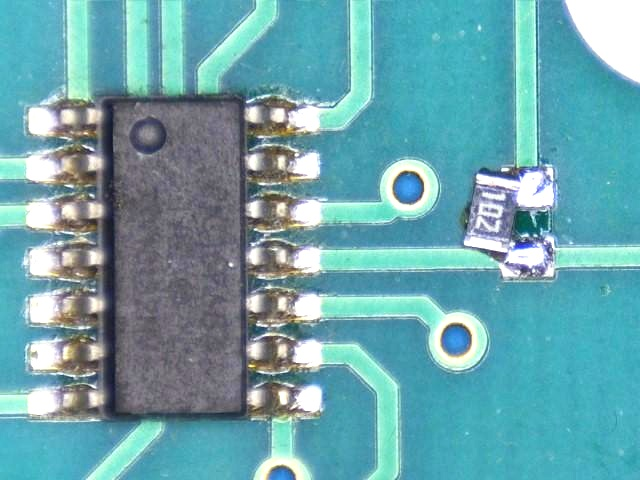pcb_defect: (462, 164, 556, 283)
